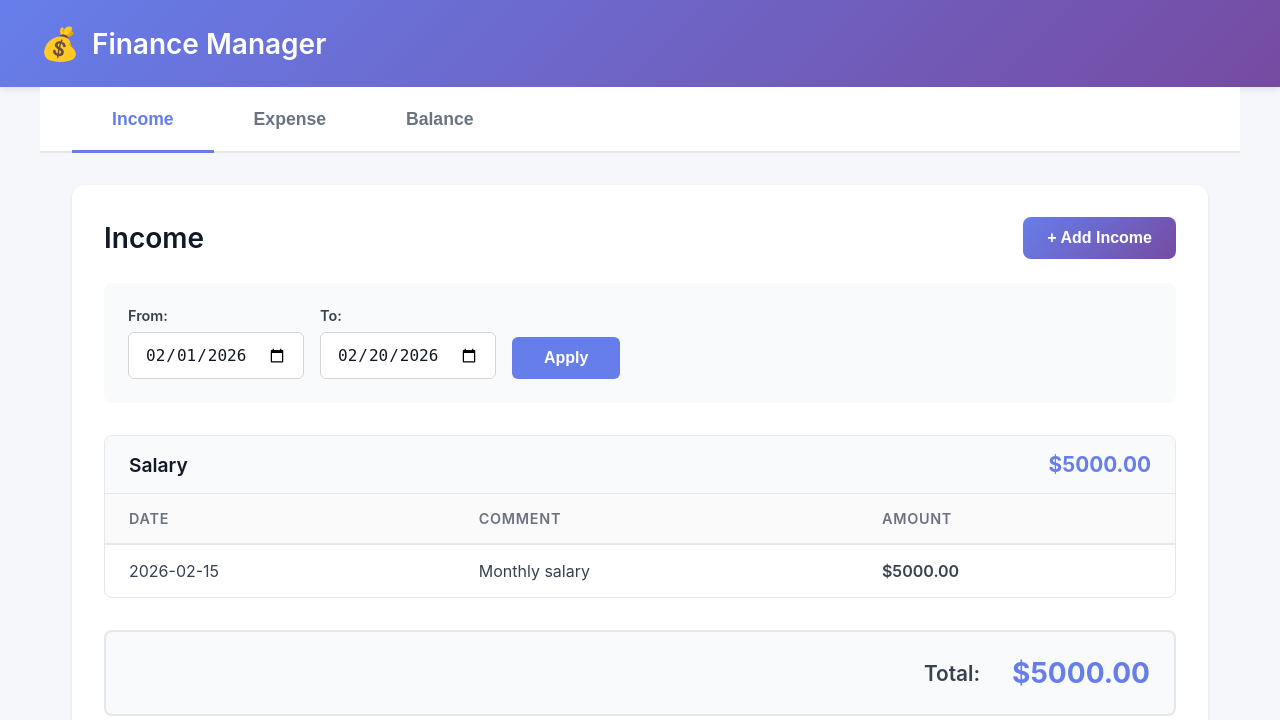
Scenario: Finance Manager - Balance Tab › Empty States › should display empty state for incomes when no data
Expected: the header with class "app-header" is shown, [0,0,1279,87]
Expected: the navigation bar with class "nav-tabs" is shown, [40,87,1240,153]
Click the button "Balance" at [440, 121], box [366,89,514,153]
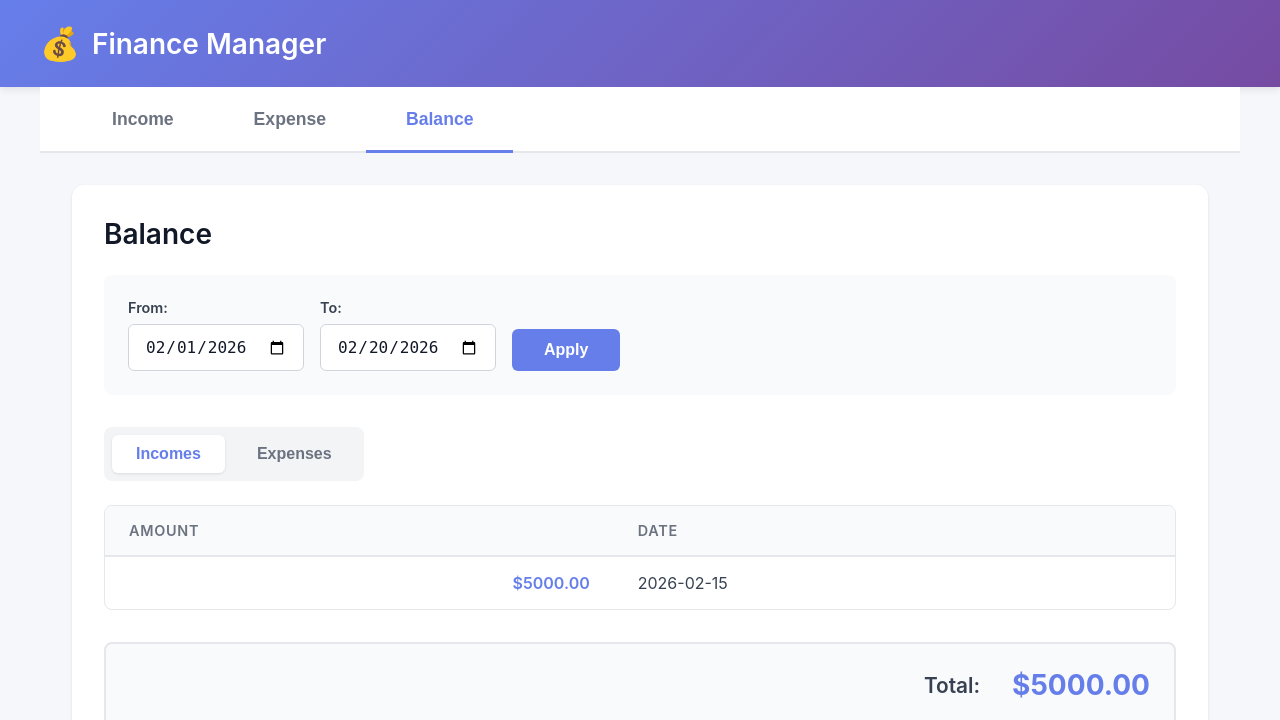
Reload the page
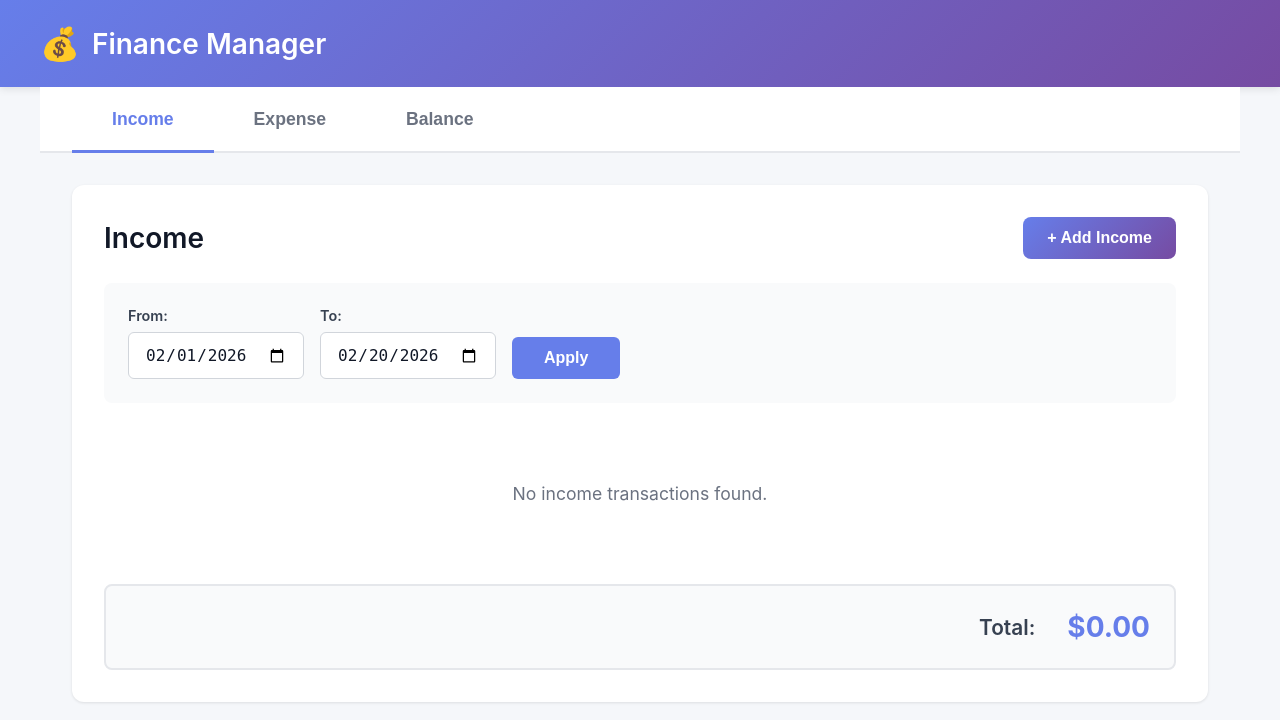
Click the button "Balance" at [440, 121], box [366,89,514,153]
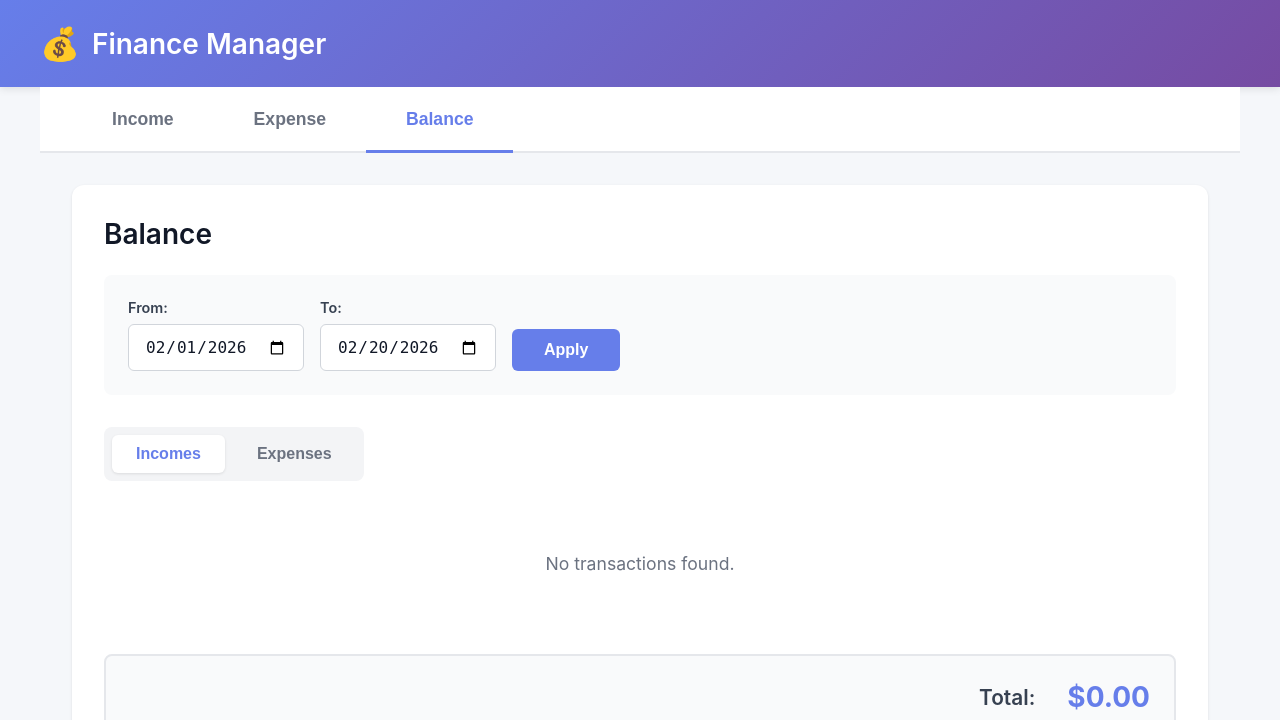
Expected: the text "No transactions found." is shown, [546,553,734,574]
